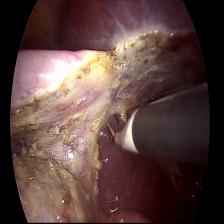Grasper: (144, 76, 208, 108)
Hook: (102, 105, 142, 161)
